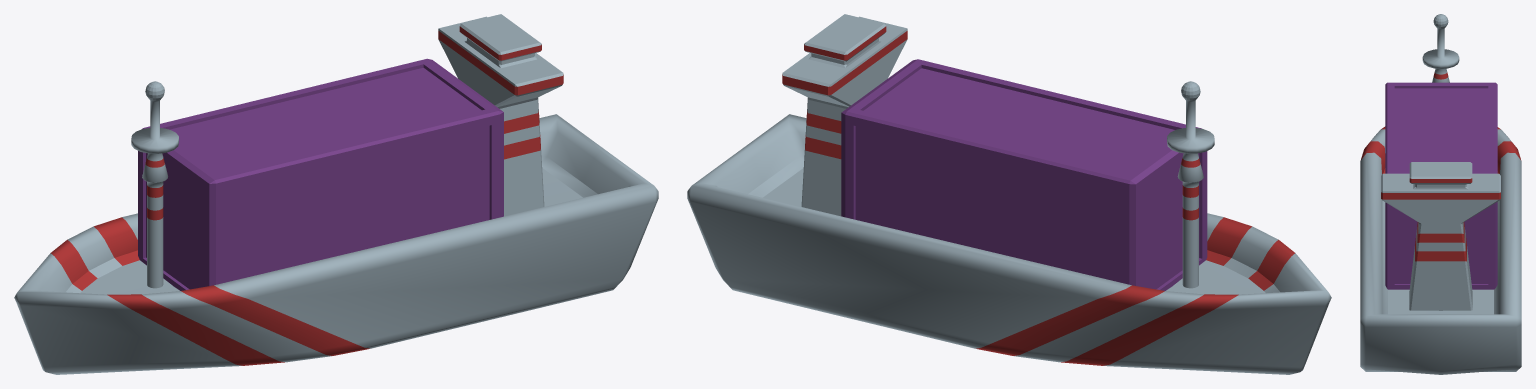
Rendered from ship2_purpleContainer.fbx.
3 renders of one model, left to right at view 1: azimuth 30°, elevation 25°; view 2: azimuth 150°, elevation 25°; view 3: azimuth 270°, elevation 25°, orthographic. The views are drawn at different scales.
Visible parts, largest first — view 1: Cube.005; view 2: Cube.005; view 3: Cube.005.
Part boxes in pixels (x1,y1,x2,y2): Cube.005: (14,14,658,374); Cube.005: (687,14,1331,374); Cube.005: (1360,14,1521,374).
Bounding box in the file's own units: 2432 × 1064 × 754.
